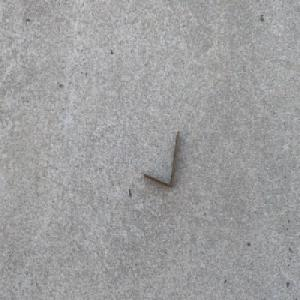MetalPart: (141, 127, 180, 189)
